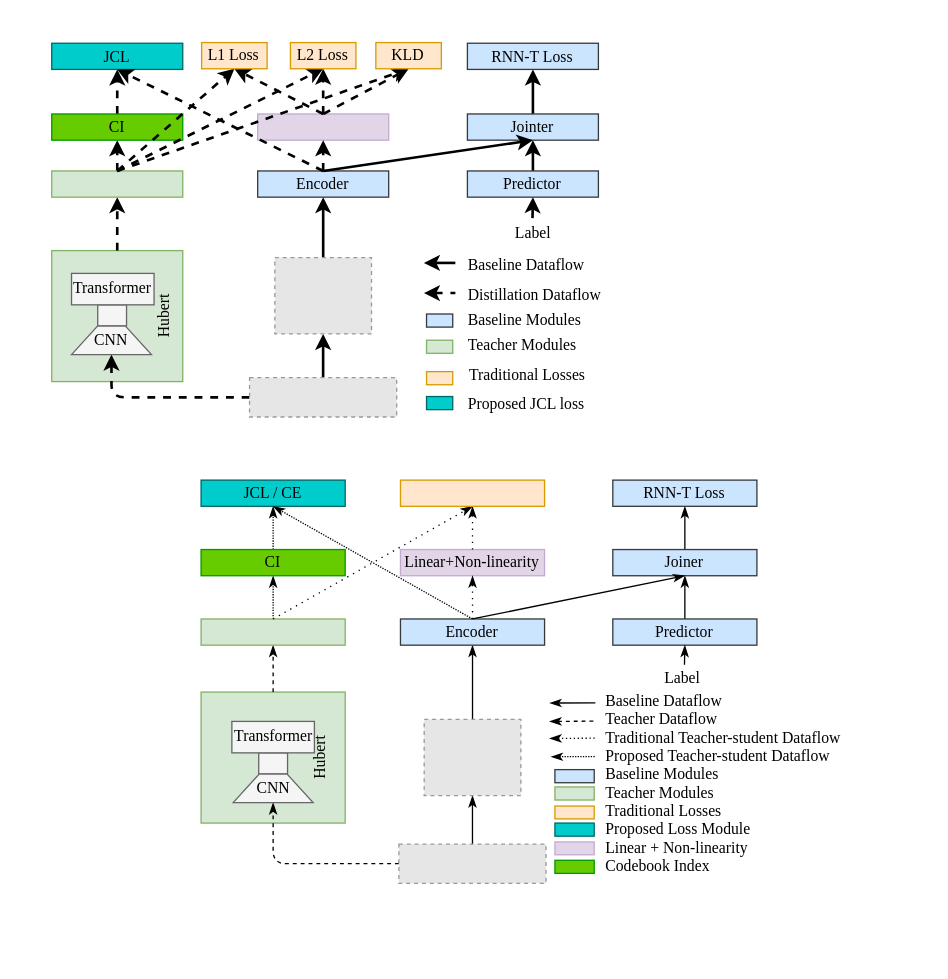
Some shapes in this 948 by 979 pixel diagram are drawn without their labels. Grey dashed boxes stand in for pictures. The centre of each missing label's shape, as x and y in pixels:
L1 / L2 / KLD: (x=472, y=492)
Prediction Net: (x=322, y=126)
Teacher Embedding: (x=272, y=631)
Teacher Tensor: (x=116, y=183)
